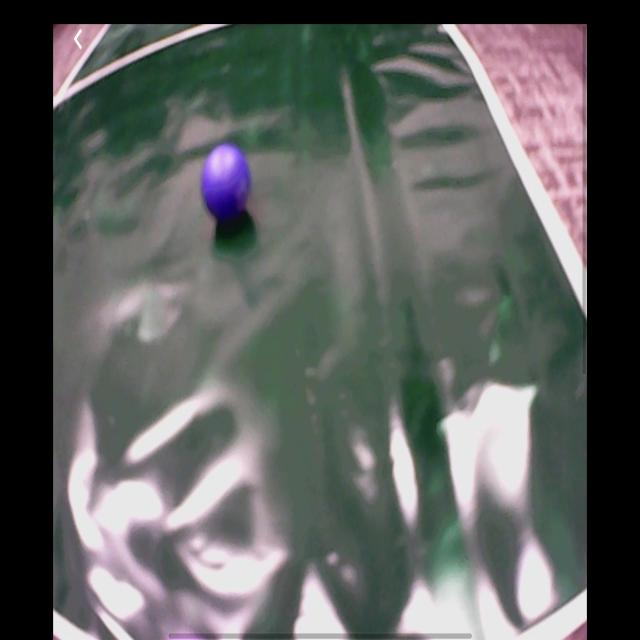ball: (203, 146, 253, 220)
